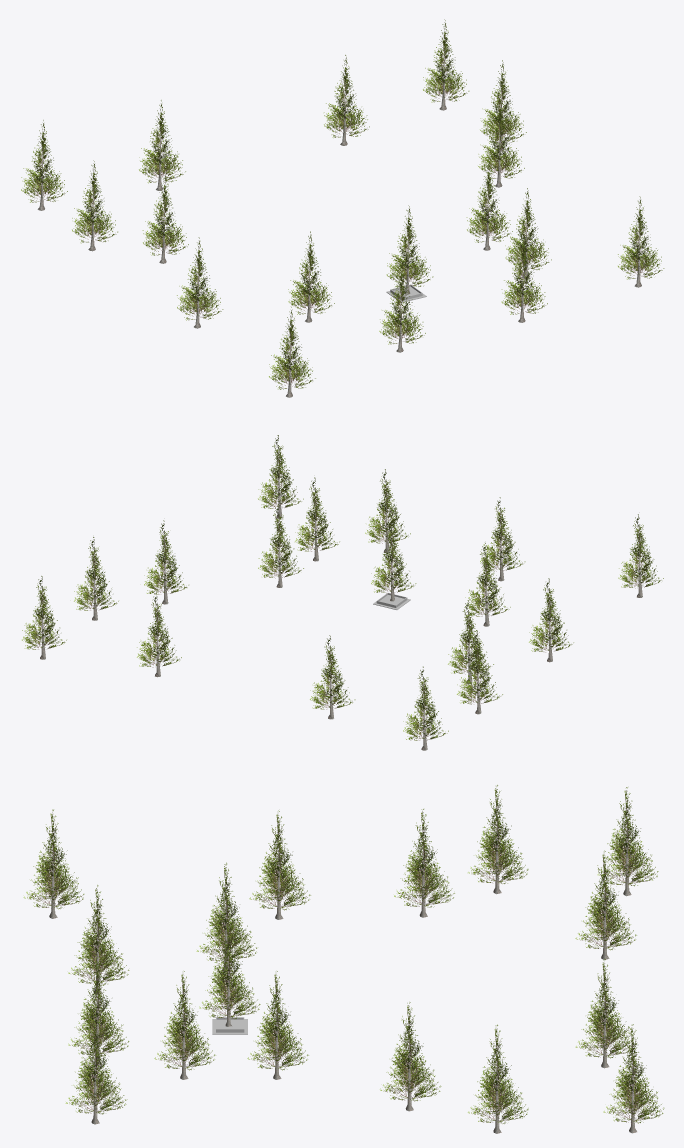
Rendered from Trees.fbx.
The picture shows the model from 3 angles, top to bottom: view 1: azimuth 30°, elevation 25°; view 2: azimuth 150°, elevation 25°; view 3: azimuth 270°, elevation 25°; orthographic projection. The views are drawn at different scales.
Visible parts, largest first — view 1: Trees; view 2: Trees; view 3: Trees.
Boxes of the visible parts, box(x1,y1,x2,y2) form: Trees: box(21, 19, 664, 397); Trees: box(22, 435, 663, 750); Trees: box(23, 785, 664, 1133).
Size of the model in its own units: 17905 by 4079 by 18331.
